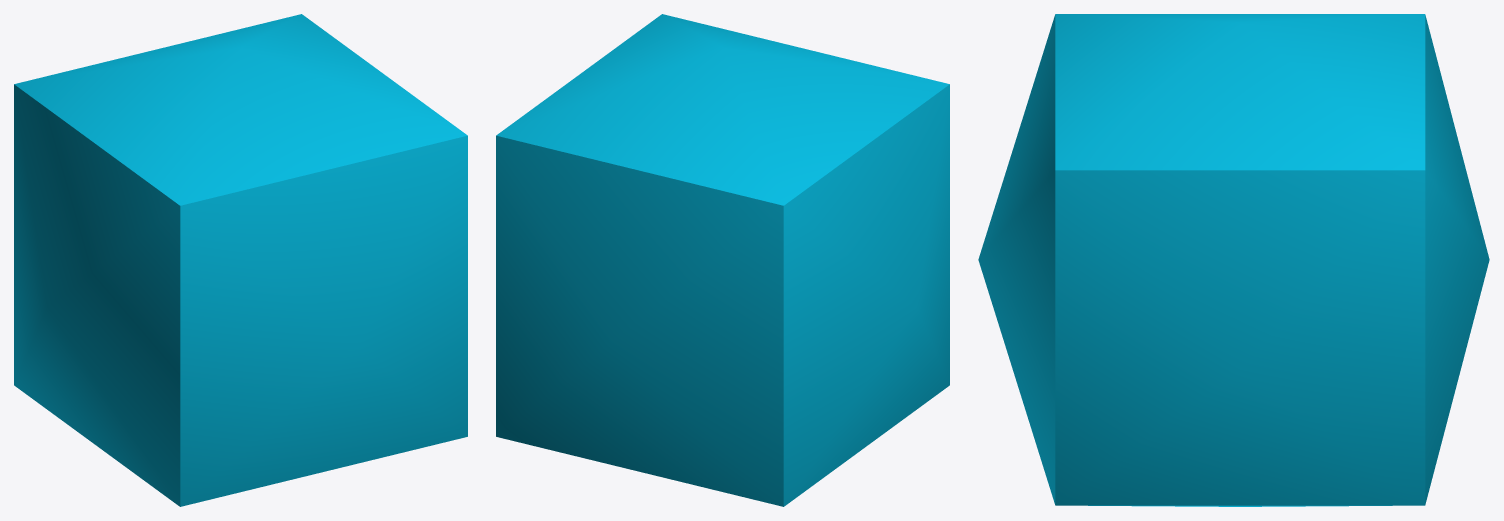
File: cube_rhoumbus.fbx
3 renders of one model, left to right at view 1: azimuth 30°, elevation 25°; view 2: azimuth 150°, elevation 25°; view 3: azimuth 270°, elevation 25°, orthographic. The views are drawn at different scales.
Visible parts, largest first — view 1: pCube1; view 2: pCube1; view 3: pCube1.
Boxes of the visible parts, <box> form: pCube1: <box>14,14,467,506</box>; pCube1: <box>496,14,949,506</box>; pCube1: <box>978,14,1489,506</box>.
Bounding box in the file's own units: 13.84 × 14.46 × 13.85.
